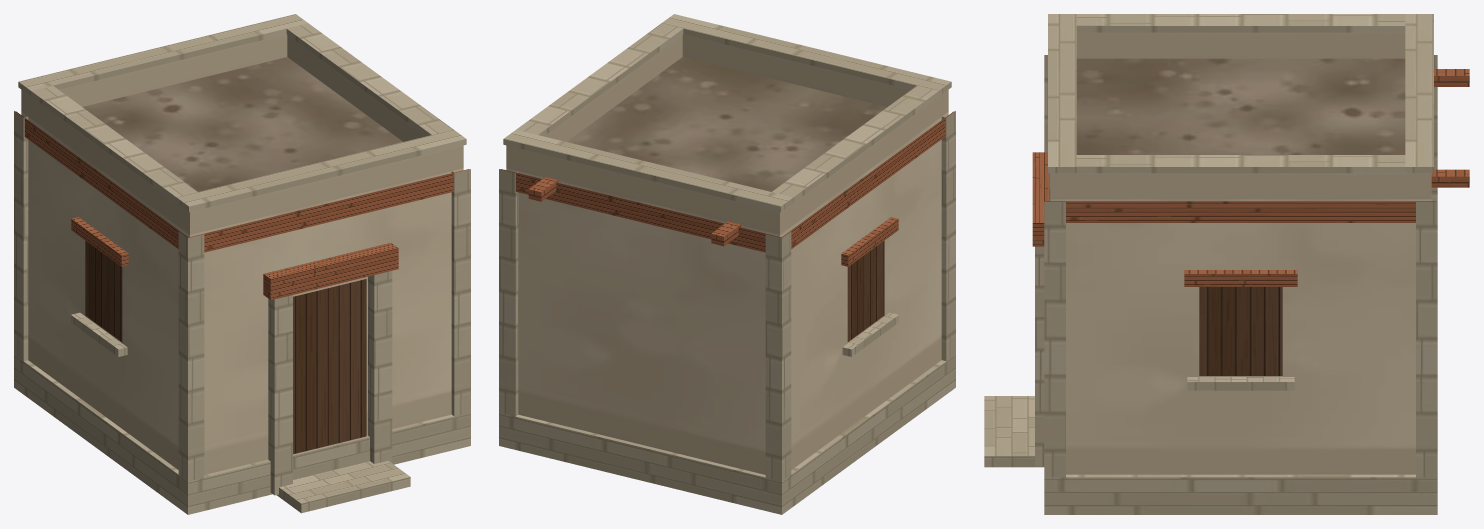
The model's file is ae_sand_stone_small_hut_lod0.glb.
The picture shows the model from 3 angles, left to right: view 1: azimuth 30°, elevation 25°; view 2: azimuth 150°, elevation 25°; view 3: azimuth 270°, elevation 25°; orthographic projection. The views are drawn at different scales.
Visible parts, largest first — view 1: ae_sand_stone_small_hut_lod0; view 2: ae_sand_stone_small_hut_lod0; view 3: ae_sand_stone_small_hut_lod0.
Boxes of the visible parts, left/top/right/bottom form: ae_sand_stone_small_hut_lod0: left=14, top=14, right=470, bottom=514; ae_sand_stone_small_hut_lod0: left=499, top=14, right=955, bottom=514; ae_sand_stone_small_hut_lod0: left=984, top=14, right=1469, bottom=514.
Size of the model in its own units: 3.24 by 3.21 by 4.07.
Materials: 1 (1 with a texture image).
